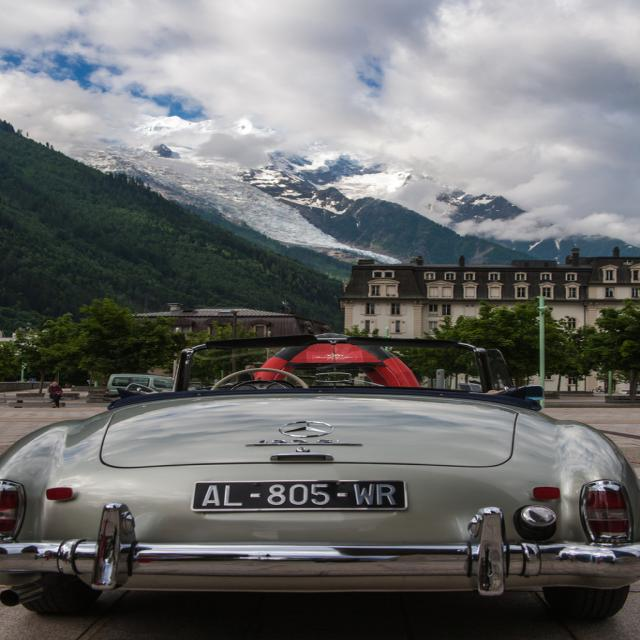Passenger Car: (4, 330, 638, 621)
